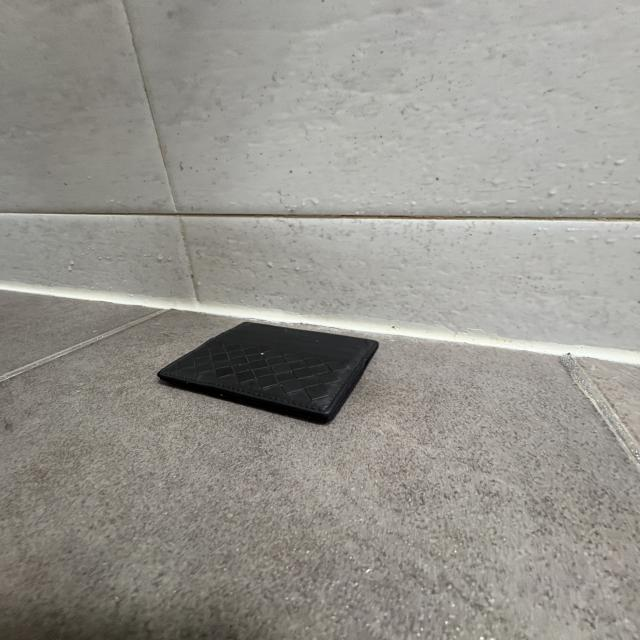wallet: (161, 321, 380, 427)
